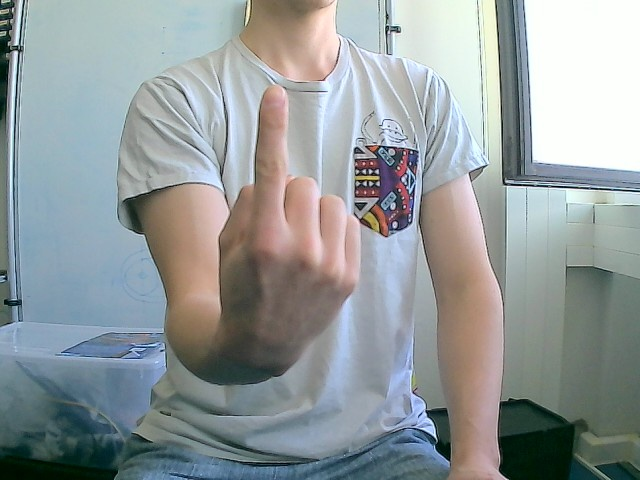up: (215, 83, 362, 376)
